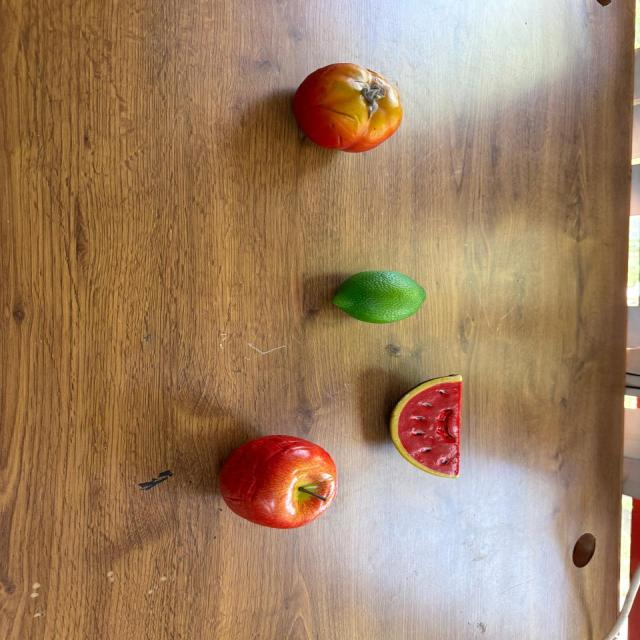apple: (218, 435, 339, 529)
lemon: (332, 270, 426, 324)
tomato: (291, 62, 402, 151)
watermelon: (390, 374, 465, 478)
